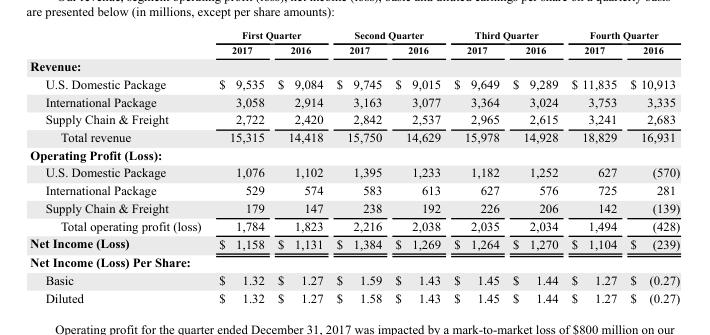table: (29, 28, 679, 304)
table column: (29, 28, 209, 304), (209, 28, 270, 304), (270, 28, 329, 304), (387, 28, 446, 304), (446, 28, 505, 304), (505, 28, 564, 304), (329, 28, 387, 304), (564, 28, 622, 304), (622, 28, 679, 304)
table column header: (29, 28, 679, 57)
table projected row header: (29, 145, 679, 163), (29, 252, 679, 270), (29, 57, 679, 74)
table row: (29, 74, 679, 92), (29, 92, 679, 110), (29, 127, 679, 145), (29, 145, 679, 163), (29, 163, 679, 181), (29, 198, 679, 216), (29, 216, 679, 234), (29, 234, 679, 252), (29, 252, 679, 270), (29, 270, 679, 288), (29, 57, 679, 74), (29, 110, 679, 127), (29, 181, 679, 198), (29, 288, 679, 304), (29, 42, 679, 57), (29, 28, 679, 42)
table spanning cell: (209, 28, 329, 42), (446, 28, 564, 42), (329, 28, 446, 42), (564, 28, 679, 42)
